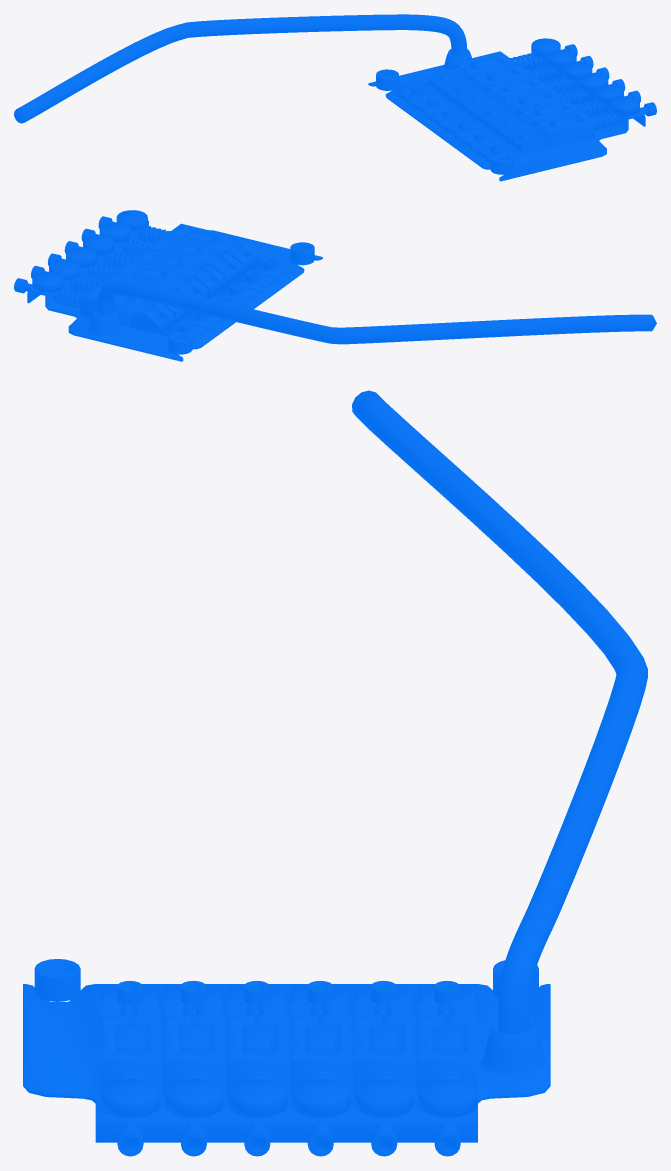
The model's file is whammy_01.glb.
The picture shows the model from 3 angles, top to bottom: view 1: azimuth 30°, elevation 25°; view 2: azimuth 150°, elevation 25°; view 3: azimuth 270°, elevation 25°; orthographic projection. The views are drawn at different scales.
Parts seen in each view (by area): view 1: Whammy_01; view 2: Whammy_01; view 3: Whammy_01.
Boxes of the visible parts, x1,y1,x2,y2 form: Whammy_01: (14, 14, 656, 181); Whammy_01: (14, 210, 656, 361); Whammy_01: (23, 390, 647, 1156).
Bounding box in the file's own units: 0.1606 × 0.0281 × 0.0751.
